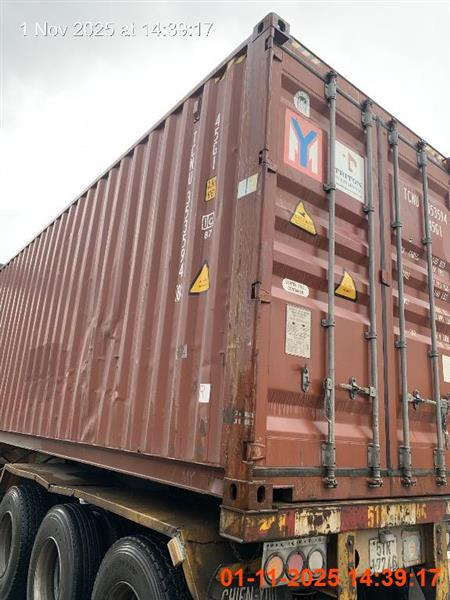crack: (1, 13, 449, 599)
